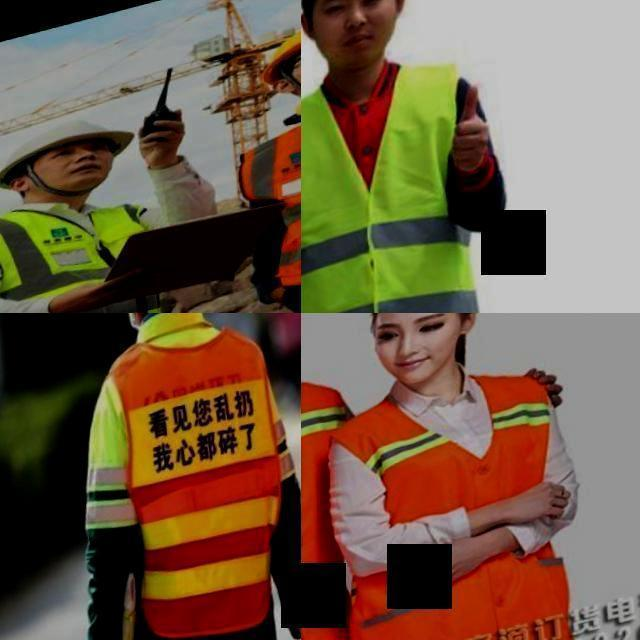vest: (329, 372, 603, 640), (100, 313, 301, 640), (301, 30, 522, 313), (301, 371, 398, 640), (0, 185, 175, 313), (248, 50, 301, 293)
